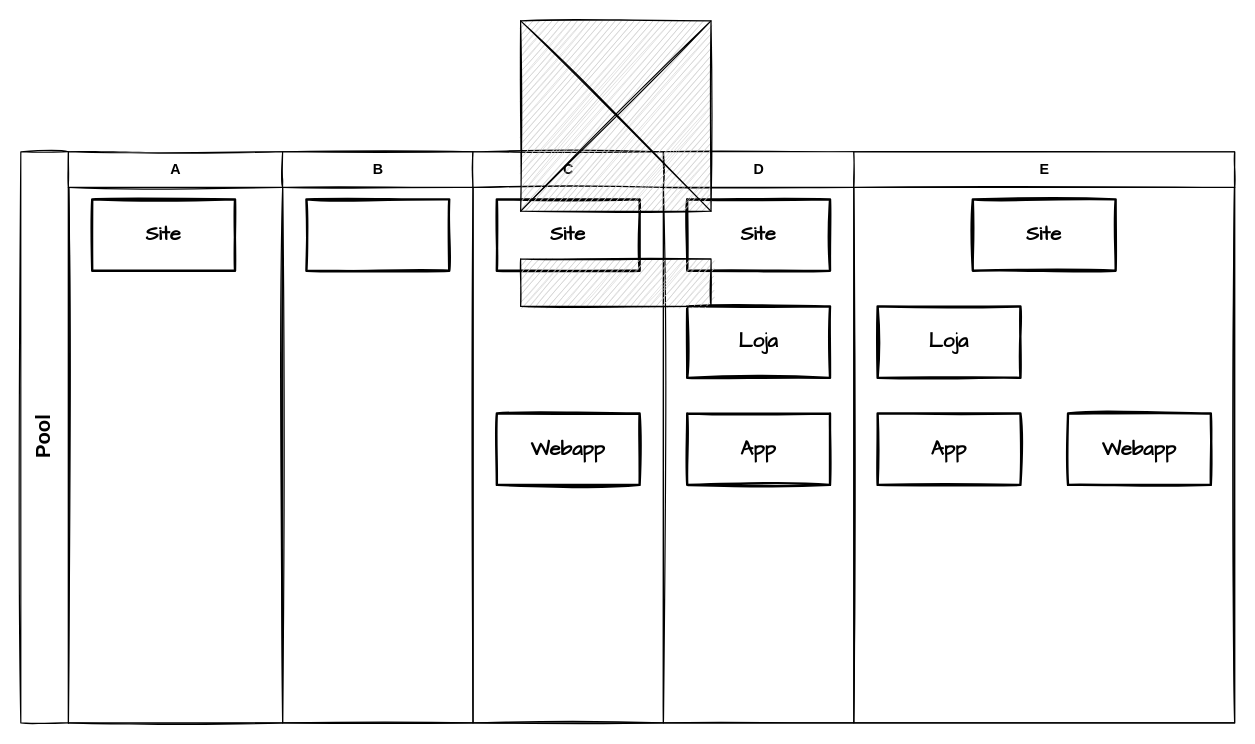
Image size: 1255x744. Some labels were removed from this diagram. The centre of each missing label's shape, as x and y in pixels:
E-commerce: pixel 377 234
WWW: pixel 615 282
